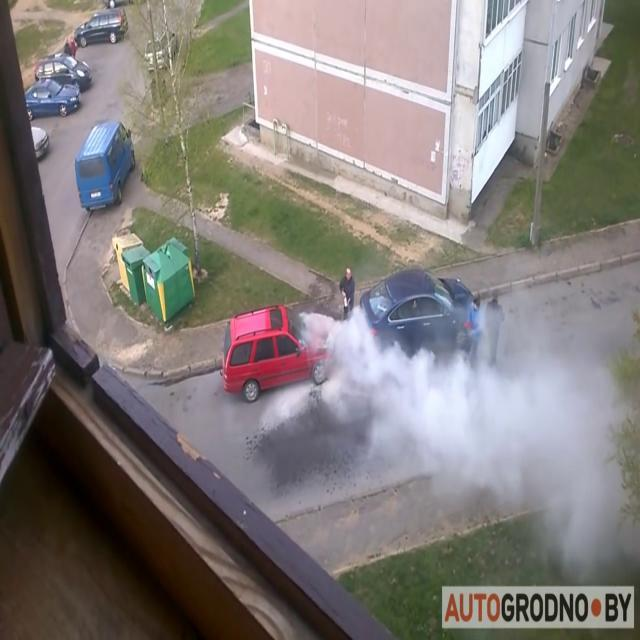Smoke: (370, 261, 638, 575)
